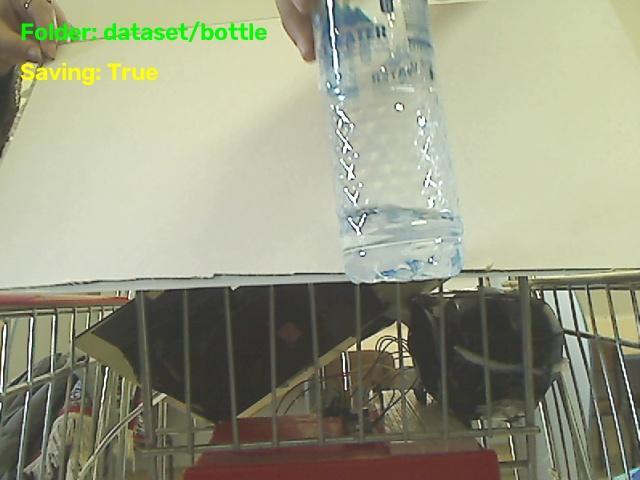Bottle: (314, 0, 462, 282)
